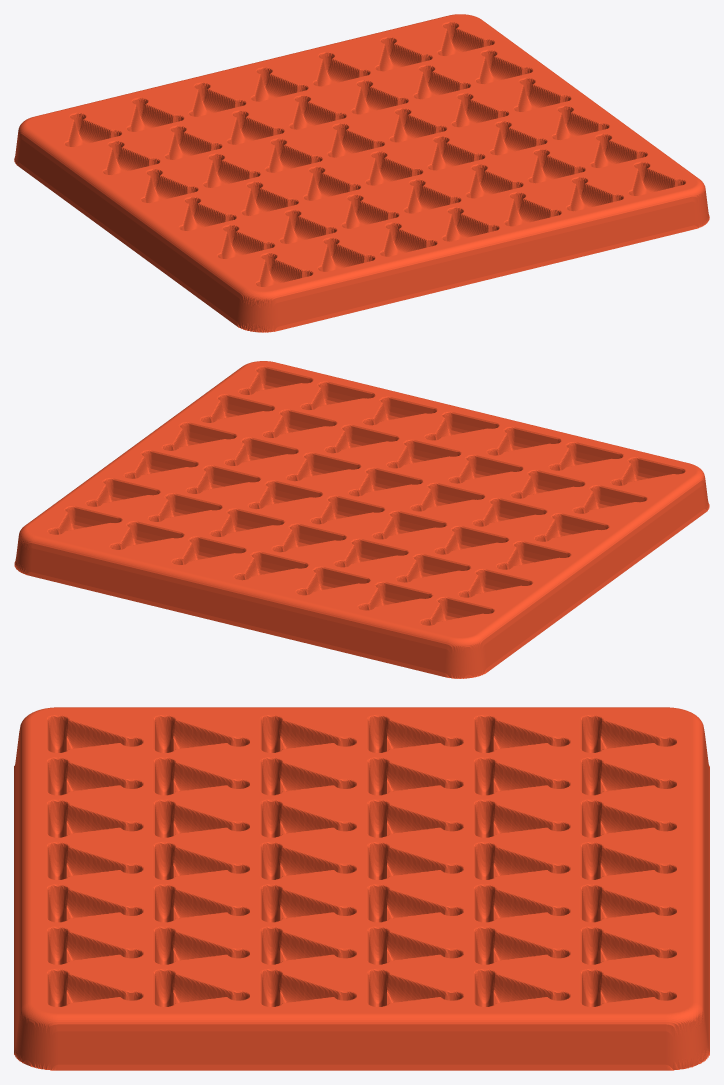
Rendered from mold.glb.
3 renders of one model, top to bottom at view 1: azimuth 30°, elevation 25°; view 2: azimuth 150°, elevation 25°; view 3: azimuth 270°, elevation 25°, orthographic. The views are drawn at different scales.
Visible parts, largest first — view 1: geometry_0; view 2: geometry_0; view 3: geometry_0.
Boxes of the visible parts, x1,y1,x2,y2 form: geometry_0: (14,14,709,332); geometry_0: (14,361,709,678); geometry_0: (14,707,709,1070).
Bounding box in the file's own units: 0.1562 × 0.0113 × 0.1437.
